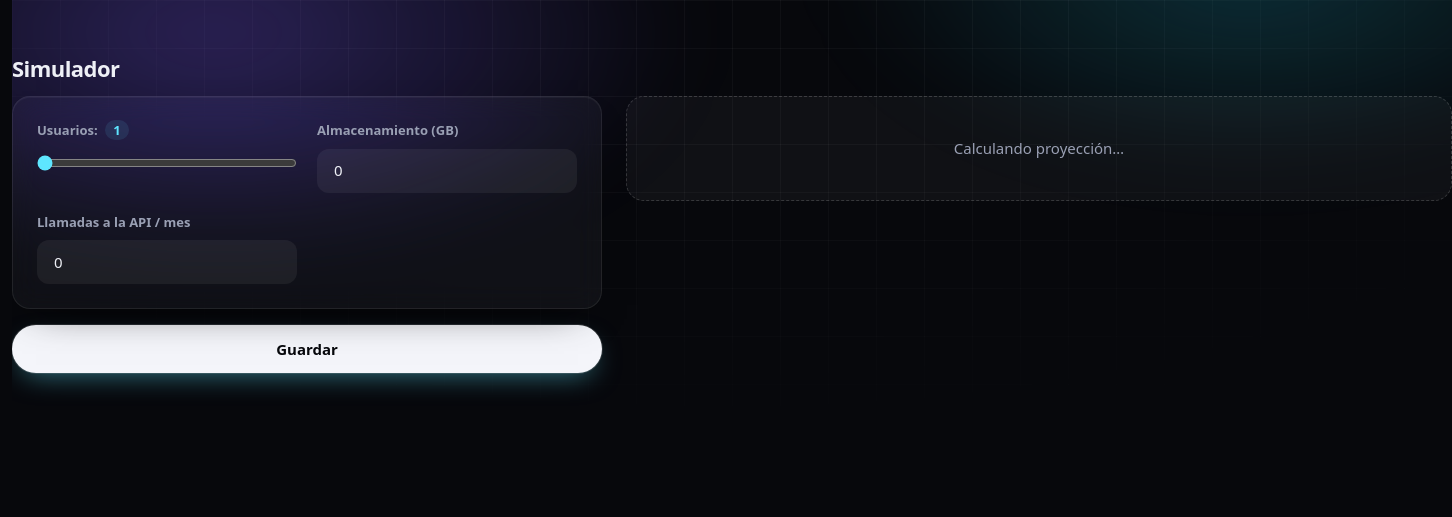
Test: Simulator: guardado › si falla, muestra el aviso sin reintento automático y se puede volver a guardar
This screenshot has width=1452, height=517.
Step 1. Click the button "Guardar" → [307, 349], box [12,325,602,373]
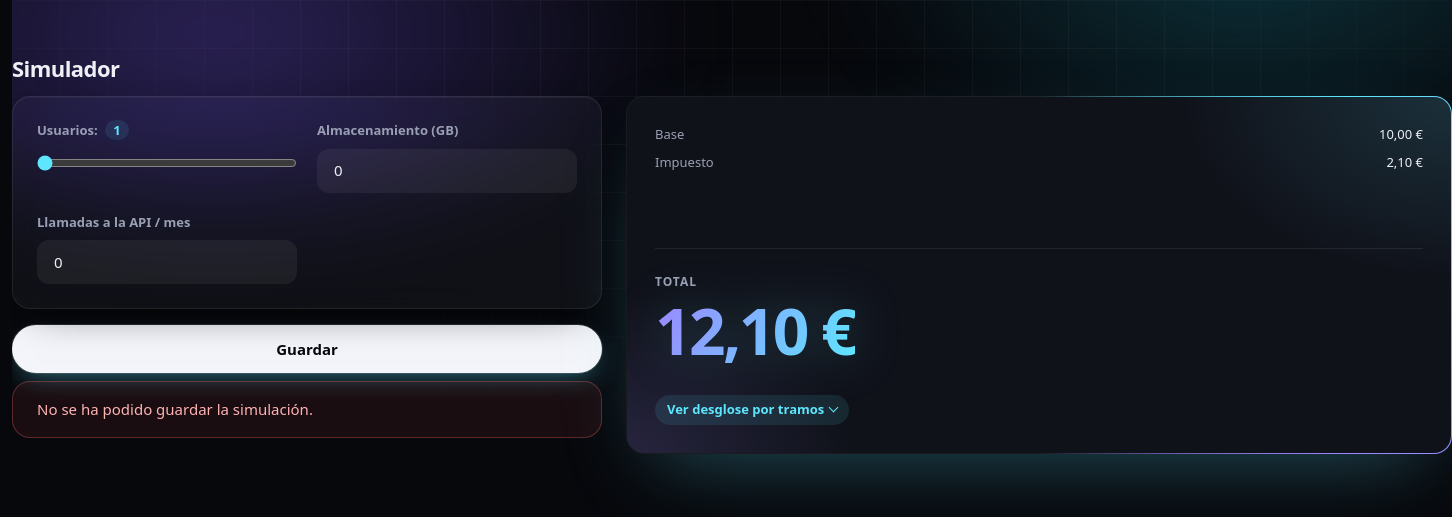
Result: the message reads "No se ha podido guardar la simulación." at [37,399,313,419]
Step 2. Click the button "Guardar" → [307, 349], box [12,325,602,373]
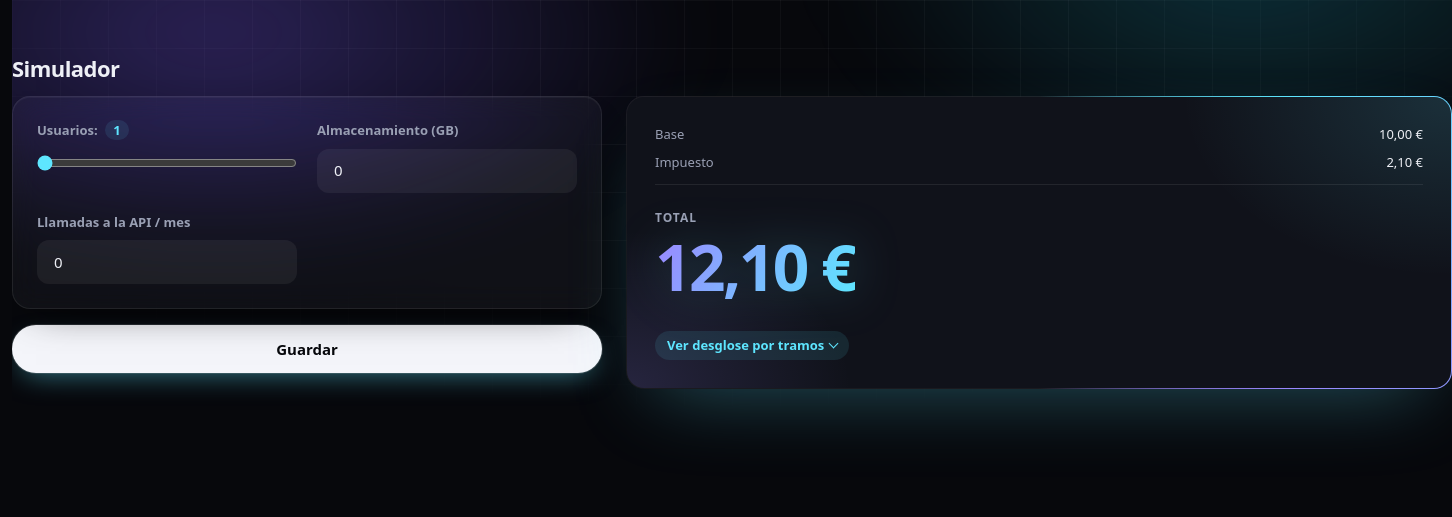
Result: the text "No se ha podido guardar la simulación." is gone
